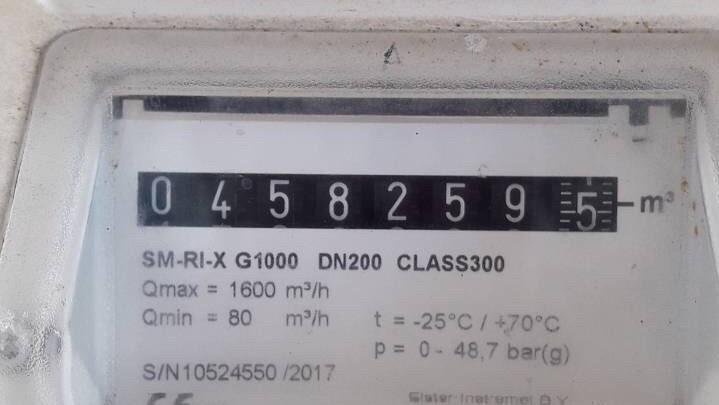analog_dial: (131, 169, 636, 241)
